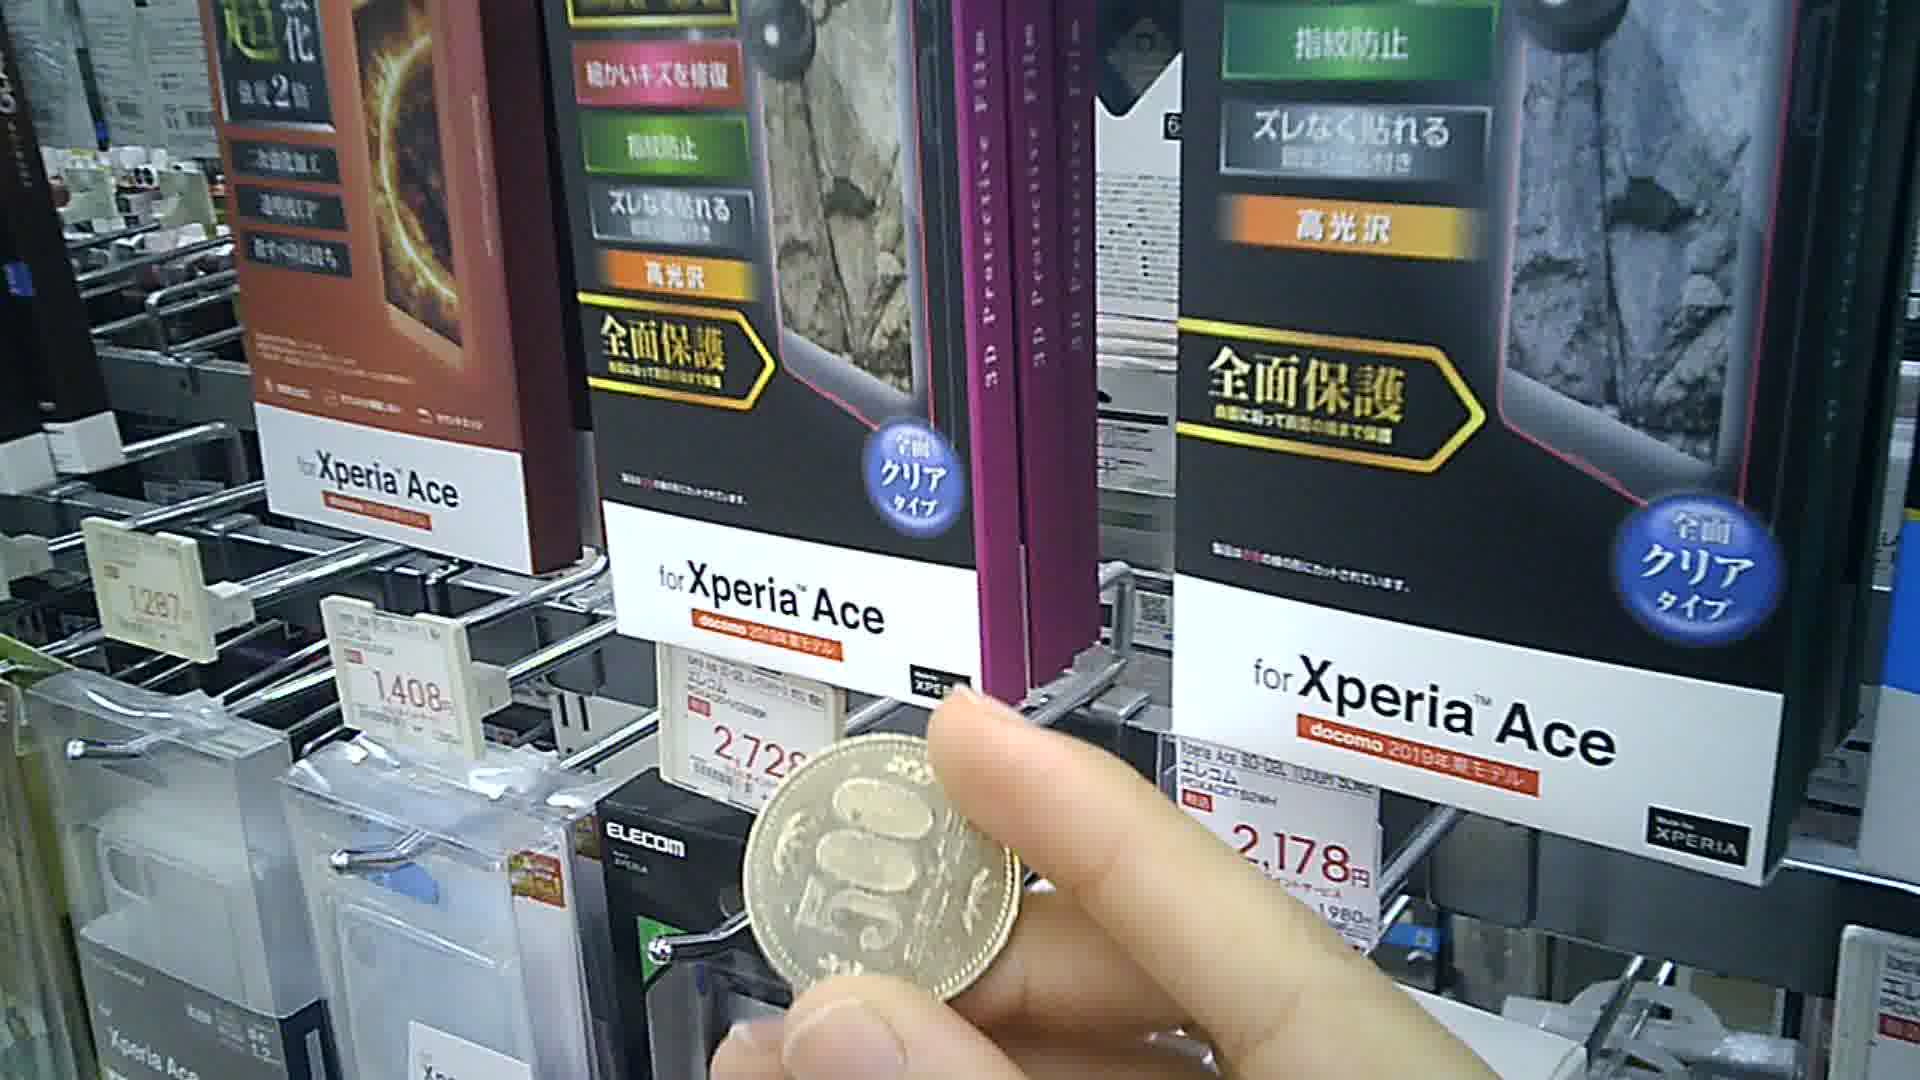500 Yen: (737, 737, 1025, 1013)
